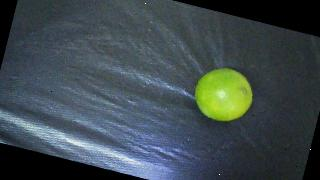LOCAL: (189, 62, 258, 127)
